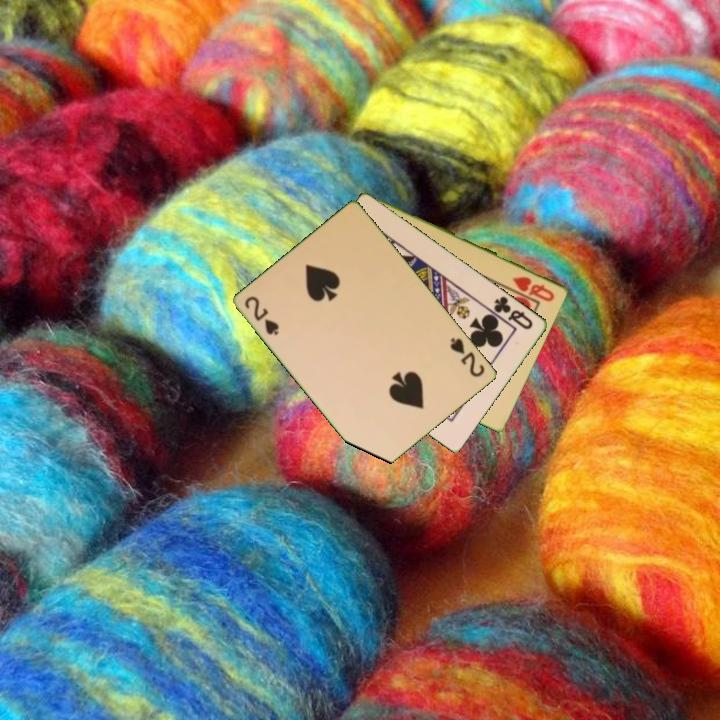2s: (447, 334, 488, 380), (241, 292, 282, 338)
Qc: (490, 292, 536, 332)
Qh: (509, 273, 558, 305)
